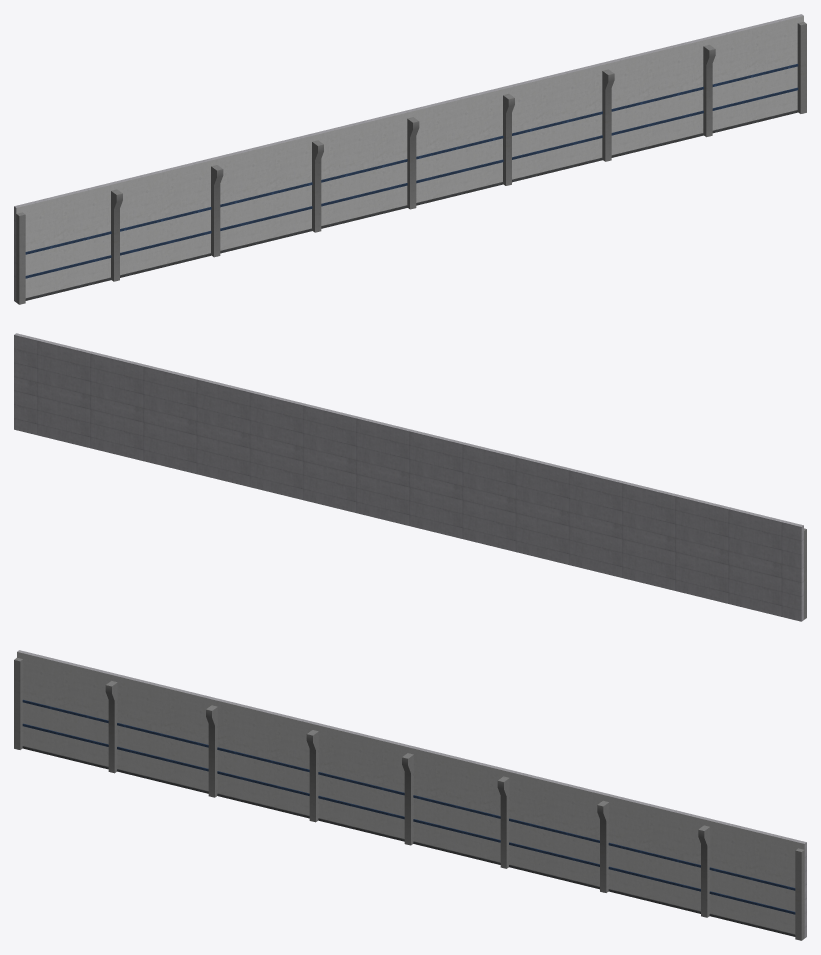
The model's file is WareBig_Walls.FBX.
The picture shows the model from 3 angles, top to bottom: view 1: azimuth 30°, elevation 25°; view 2: azimuth 150°, elevation 25°; view 3: azimuth 330°, elevation 25°; orthographic projection.
Visible parts, largest first — view 1: WareBig_Walls, WareBig_Column, WareBig_W; view 2: WareBig_Walls; view 3: WareBig_Walls, WareBig_Column, WareBig_W.
Part boxes in pixels (x1,y1,x2,y2): WareBig_Walls: (14, 14, 803, 302); WareBig_Column: (16, 22, 806, 304); WareBig_W: (25, 63, 798, 278); WareBig_Walls: (14, 333, 803, 621); WareBig_Walls: (17, 650, 806, 938); WareBig_Column: (14, 658, 804, 940); WareBig_W: (22, 699, 795, 914).
Size of the model in its own units: 2999 by 345 by 54.34.
